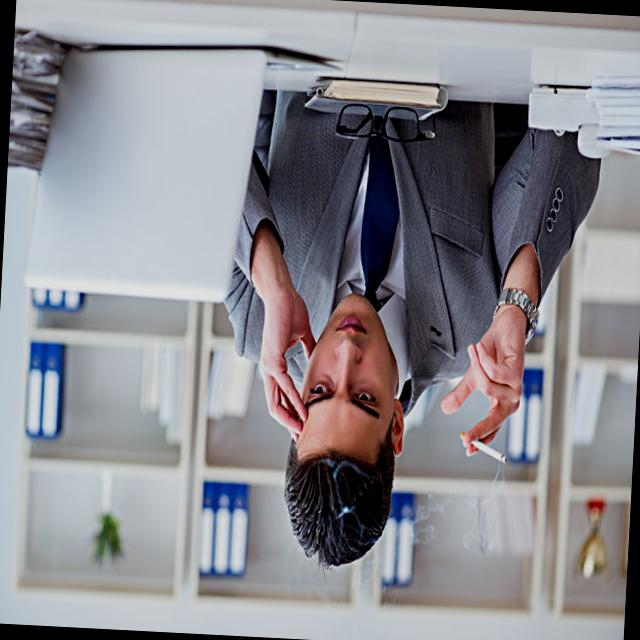smoke: (462, 434, 512, 466)
